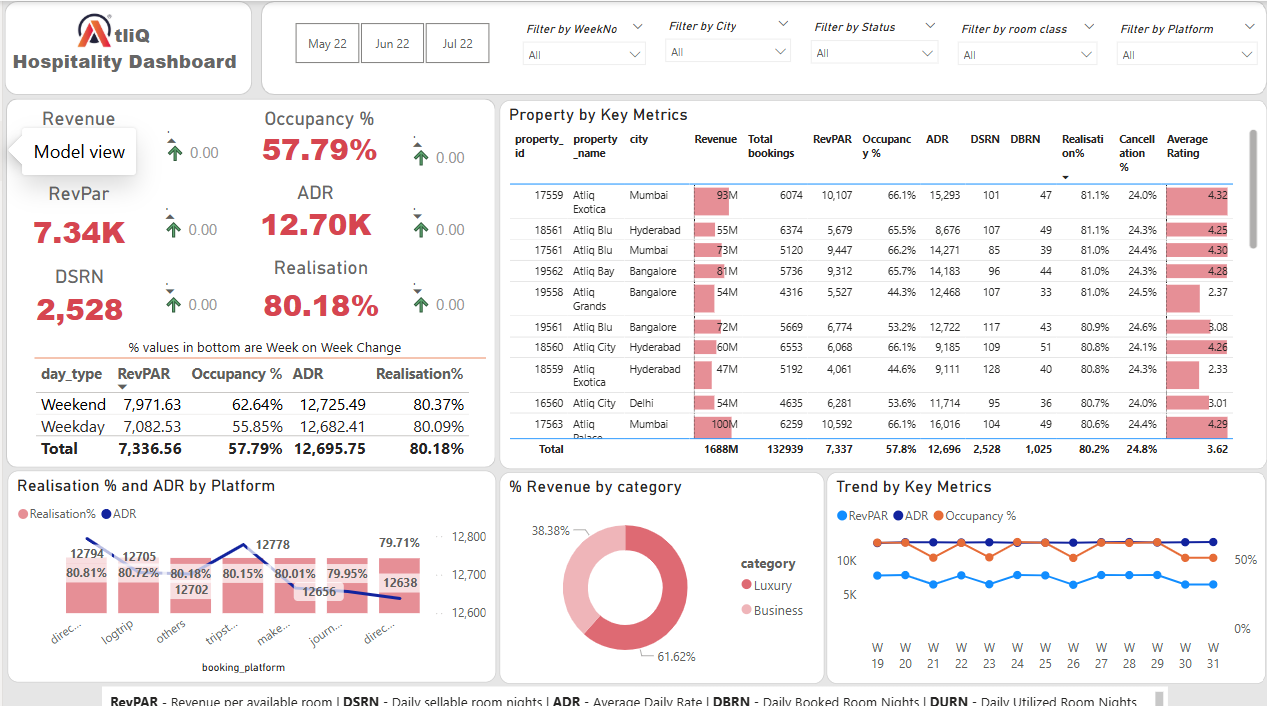

The page's visual inventory and layout, read from the dashboard file:
{"tool":"powerbi","page":{"name":"Dashboard","canvas":[1280,720],"ordinal":2},"visuals":[{"type":"shape","box":[260,0,1016.7,95],"z":0},{"type":"shape","box":[2.9,98.6,494.3,372.9],"z":1000},{"type":"shape","box":[1.7,0,250,95],"z":2000},{"type":"slicer","fields":{"Values":["dim_rooms.room_class"]},"box":[953.9,15.1,160.5,54.5],"z":3000},{"type":"slicer","fields":{"Values":["fact_booking.booking_status"]},"box":[805.6,13.6,148.4,56],"z":4000},{"type":"slicer","fields":{"Values":["dim_hotels.city"]},"box":[658.7,12.1,146.9,56],"z":5000},{"type":"slicer","fields":{"Values":["dim_date.week no"]},"box":[514.8,15.1,143.8,53],"z":6000},{"type":"slicer","fields":{"Values":["fact_booking.booking_platform"]},"box":[1114.5,15.1,162,53],"z":7000},{"type":"group","id":"g1","title":"Group 2","box":[0,107.5,152.9,226.4],"z":8000},{"type":"card","title":"Revenue","fields":{"Values":["Key_measure.Revenue"]},"box":[0,107.5,152.9,66.6],"z":8000,"group":"g1"},{"type":"group","id":"g2","title":"Group 1","box":[245.1,107,148.3,227.3],"z":9000},{"type":"card","title":"Occupancy %","fields":{"Values":["Key_measure.Occupancy %"]},"box":[245.1,107,148.3,61.7],"z":9000,"group":"g2"},{"type":"card","title":"RevPar","fields":{"Values":["Key_measure.RevPAR"]},"box":[0,183,152.9,78.7],"z":9000,"group":"g1"},{"type":"textbox","box":[27.3,334.6,473.9,33.3],"z":10000},{"type":"card","title":"DSRN","fields":{"Values":["Key_measure.DSRN"]},"box":[1.5,267.2,151.4,66.6],"z":11000,"group":"g1"},{"type":"shape","box":[31.8,352.8,455.8,15.1],"z":11000},{"type":"card","title":"ADR","fields":{"Values":["Key_measure.ADR"]},"box":[251.4,180.5,128.2,65.1],"z":12000,"group":"g2"},{"type":"tableEx","fields":{"Values":["dim_date.day_type","Key_measure.RevPAR","Key_measure.Occupancy %","Key_measure.ADR","Key_measure.Realisation%"]},"box":[27.3,360.4,464.9,110.5],"z":12000},{"type":"tableEx","fields":{"Values":["Key_measure.Occupancy WoW change %"]},"box":[154.4,113.6,90.9,69.7],"z":13000},{"type":"card","title":"Realisation","fields":{"Values":["Key_measure.Realisation%"]},"box":[249.8,256.5,142.4,77.8],"z":13000,"group":"g2"},{"type":"tableEx","fields":{"Values":["Key_measure.Occupancy WoW change %"]},"box":[402.8,118.1,89.3,66.6],"z":14000},{"type":"tableEx","fields":{"Values":["Key_measure.ADR WoW change %"]},"box":[152.9,190.8,90.9,65.1],"z":15000},{"type":"tableEx","fields":{"Values":["Key_measure.ADR WoW change %"]},"box":[402.8,190.8,133.3,81.8],"z":16000},{"type":"tableEx","fields":{"Values":["Key_measure.Realisation WoW change %"]},"box":[152.9,266.5,90.9,66.6],"z":17000},{"type":"group","id":"g3","title":"Group 3","box":[402.8,266.5,128.7,80.3],"z":18000},{"type":"tableEx","title":"Property by Key Metrics","fields":{"Values":["dim_hotels.property_id","dim_hotels.property_name","dim_hotels.city","Key_measure.Revenue","Key_measure.Total bookings","Key_measure.RevPAR","Key_measure.Occupancy %","Key_measure.ADR","Key_measure.DSRN","Key_measure.DBRN","Key_measure.Realisation%","Key_measure.Cancellation %"]},"box":[501.4,100,775.7,372.9],"z":19000},{"type":"lineStackedColumnComboChart","title":"Realisation % and ADR by Platform","fields":{"Category":["fact_booking.booking_platform"],"Y":["Key_measure.Realisation%"],"Y2":["Key_measure.ADR"]},"box":[4.6,473.6,493.3,214],"z":20000},{"type":"lineChart","title":"Trend by Key Metrics","fields":{"Category":["dim_date.mmm yy.Variation.Date Hierarchy.Month","dim_date.week no"],"Y2":["Key_measure.Occupancy %"],"Y":["Key_measure.RevPAR","Key_measure.ADR"]},"box":[831.8,475.1,444.7,214],"z":21000},{"type":"donutChart","title":"% Revenue by category","fields":{"Category":["dim_hotels.category"],"Y":["Key_measure.Revenue"]},"box":[500.9,475.1,327.8,214],"z":22000},{"type":"textbox","box":[100.2,692.1,1076.1,27.3],"z":23000},{"type":"textbox","box":[5,15,265,68.3],"z":24000},{"type":"image","box":[69.7,0,45.4,59.1],"z":25000},{"type":"slicer","fields":{"Values":["dim_date.mmm yy"]},"box":[269.5,15.1,245.3,54.5],"z":27000},{"type":"tableEx","fields":{"Values":["Key_measure.Realisation WoW change %"]},"box":[402.8,266.5,127.7,80],"z":29000,"group":"g3"}]}

Visuals, with their boxes in screenshot pixels (x1, y1, x2, y2), scaled from the page's 1280x720 canvas onto the 1267x706 screenshot:
shape: box(257, 0, 1264, 93)
shape: box(3, 97, 492, 462)
shape: box(2, 0, 249, 93)
slicer - dim_rooms.room_class: box(944, 15, 1103, 68)
slicer - fact_booking.booking_status: box(797, 13, 944, 68)
slicer - dim_hotels.city: box(652, 12, 797, 67)
slicer - dim_date.week no: box(510, 15, 652, 67)
slicer - fact_booking.booking_platform: box(1103, 15, 1264, 67)
"Group 2" group: box(0, 105, 151, 327)
"Revenue" card: box(0, 105, 151, 171)
"Group 1" group: box(243, 105, 389, 328)
"Occupancy %" card: box(243, 105, 389, 165)
"RevPar" card: box(0, 179, 151, 257)
textbox: box(27, 328, 496, 361)
"DSRN" card: box(1, 262, 151, 327)
shape: box(31, 346, 483, 361)
"ADR" card: box(249, 177, 376, 241)
tableEx - dim_date.day_type x Key_measure.RevPAR: box(27, 353, 487, 462)
tableEx - Key_measure.Occupancy WoW change %: box(153, 111, 243, 180)
"Realisation" card: box(247, 252, 388, 328)
tableEx - Key_measure.Occupancy WoW change %: box(399, 116, 487, 181)
tableEx - Key_measure.ADR WoW change %: box(151, 187, 241, 251)
tableEx - Key_measure.ADR WoW change %: box(399, 187, 531, 267)
tableEx - Key_measure.Realisation WoW change %: box(151, 261, 241, 327)
"Group 3" group: box(399, 261, 526, 340)
"Property by Key Metrics" tableEx: box(496, 98, 1264, 464)
"Realisation % and ADR by Platform" lineStackedColumnComboChart: box(5, 464, 493, 674)
"Trend by Key Metrics" lineChart: box(823, 466, 1264, 676)
"% Revenue by category" donutChart: box(496, 466, 820, 676)
textbox: box(99, 679, 1164, 705)
textbox: box(5, 15, 267, 82)
image: box(69, 0, 114, 58)
slicer - dim_date.mmm yy: box(267, 15, 510, 68)
tableEx - Key_measure.Realisation WoW change %: box(399, 261, 525, 340)
